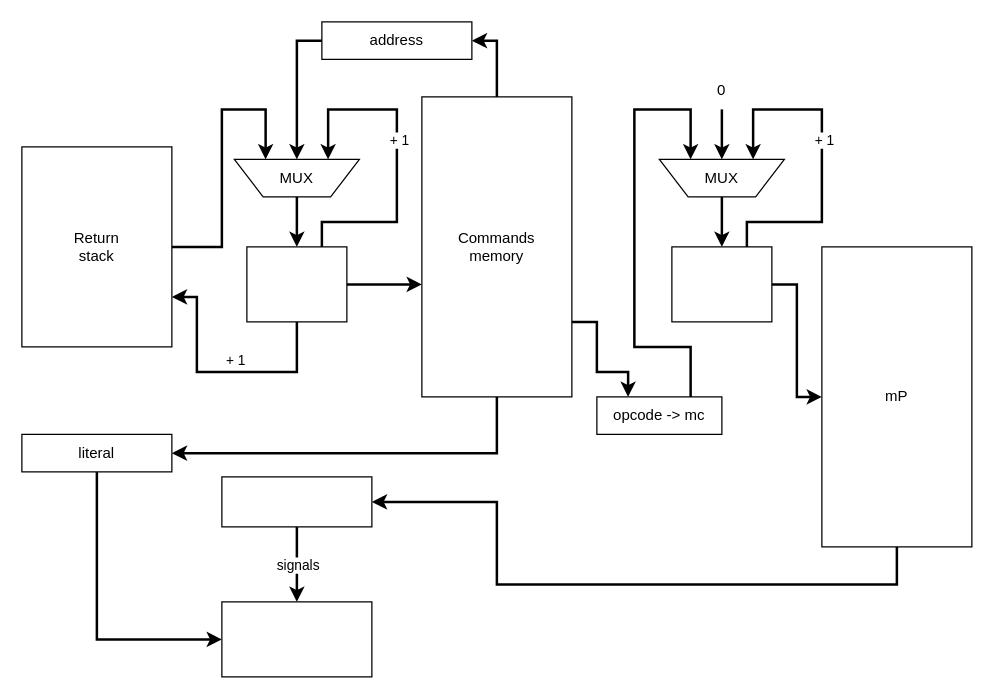
This 994x699 diagram has some shape labels left out. Each missing label, with the box of its shape:
DataPath: (221, 601, 372, 677)
decoder: (221, 476, 372, 527)
mPc: (671, 246, 772, 322)
Programm counter: (246, 246, 347, 322)
